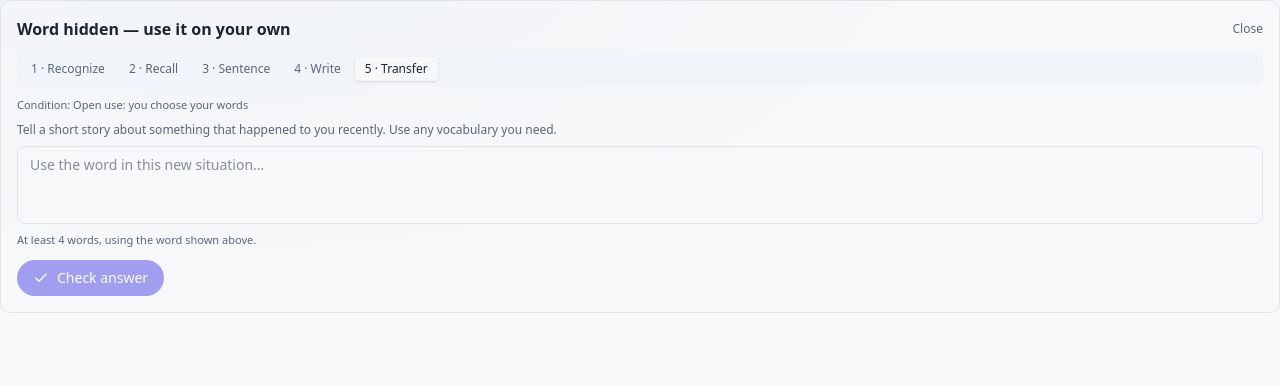
WordDrill paso Transfer (V3.40) › no usar la palabra en condición abierta se explica como no-error (V3.46)
Type "I walked to the beach yesterday with my sister." into the text box named "Your answer".
click(640, 184); type("I walked to the beach yesterday with my sister.")  # box [17,146,1263,224]
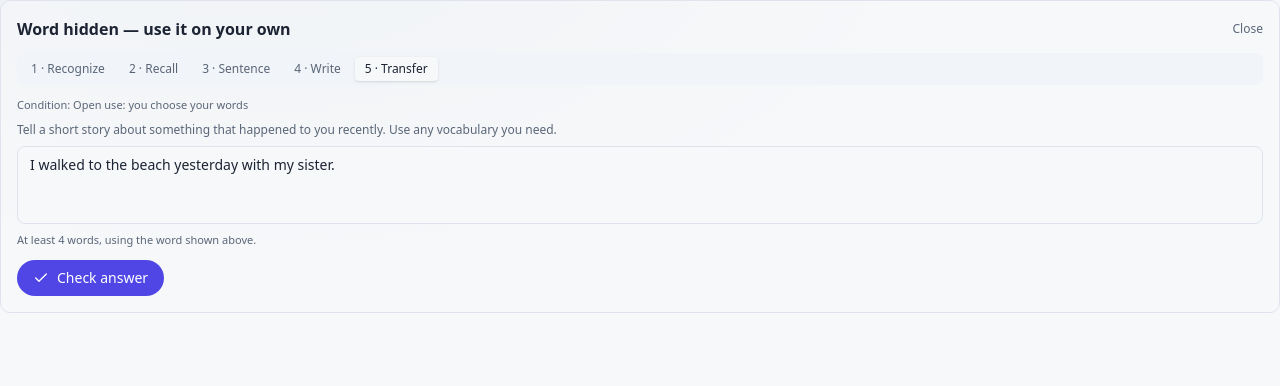
Click the button "Check answer".
click(91, 278)  # box [17,260,164,296]
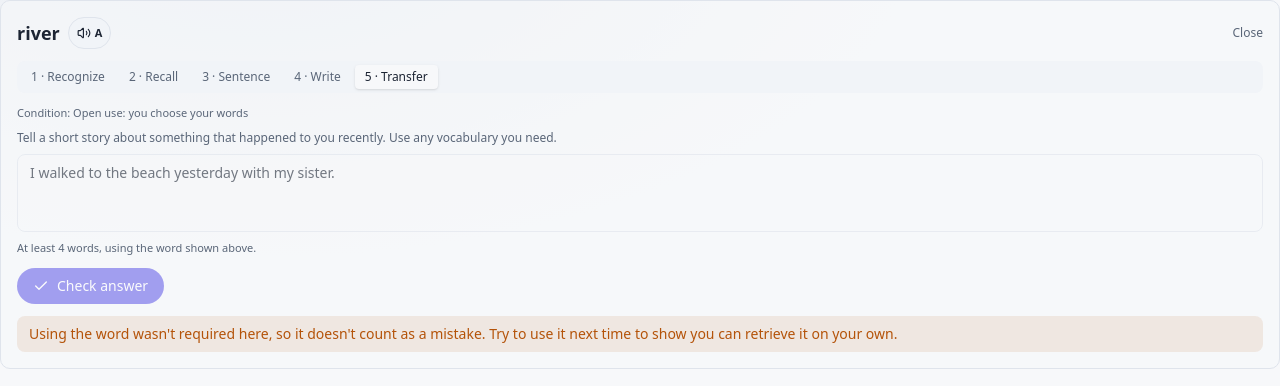
expect the text "wasn't required here" is shown: met, box [29,324,898,343]
